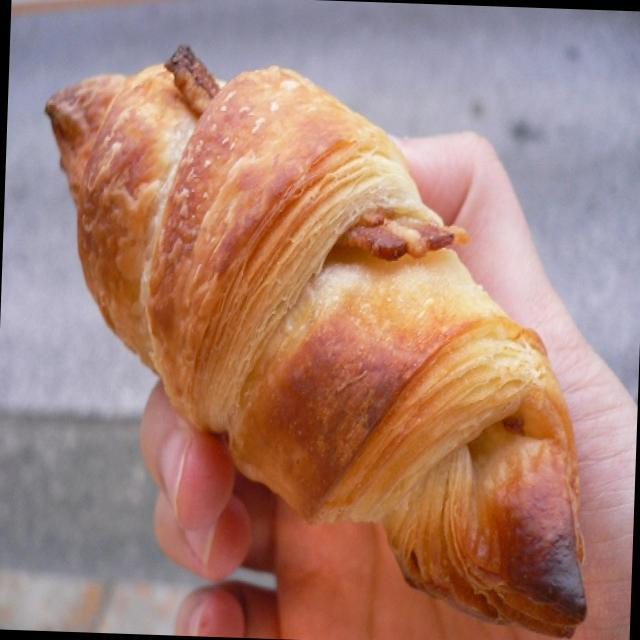Croissant: (65, 49, 584, 598)
